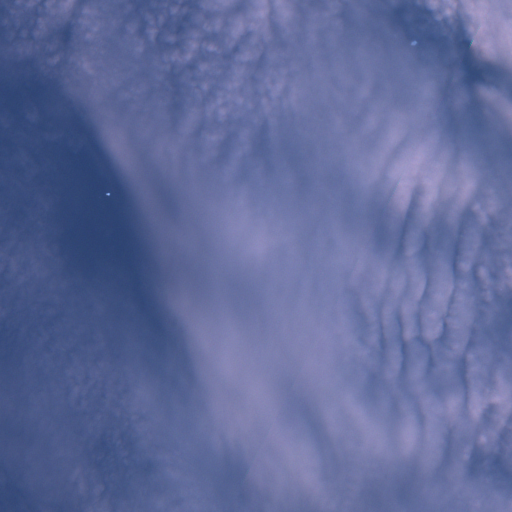Iceberg: (411, 40, 416, 45), (106, 193, 109, 195)
